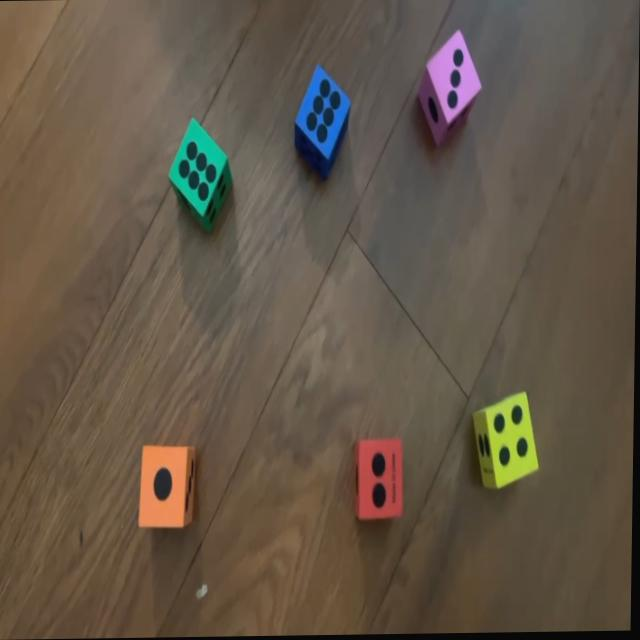cube: (168, 120, 234, 225), (294, 65, 351, 174), (353, 436, 404, 517)
